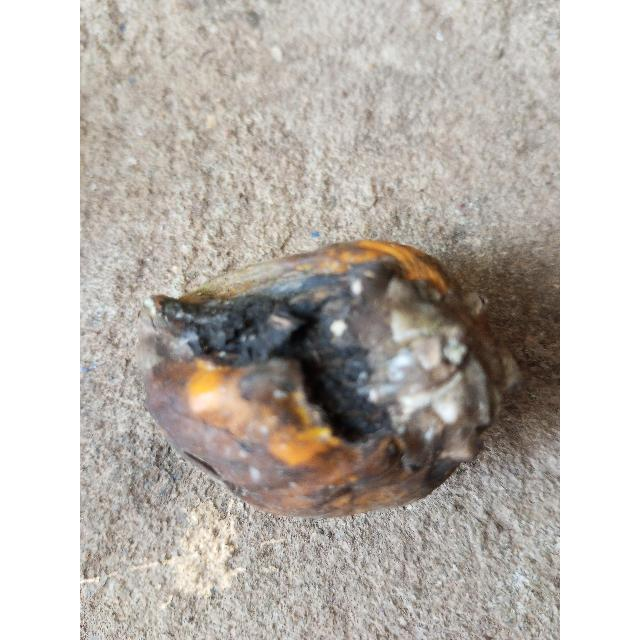damaged: (137, 241, 521, 516)
